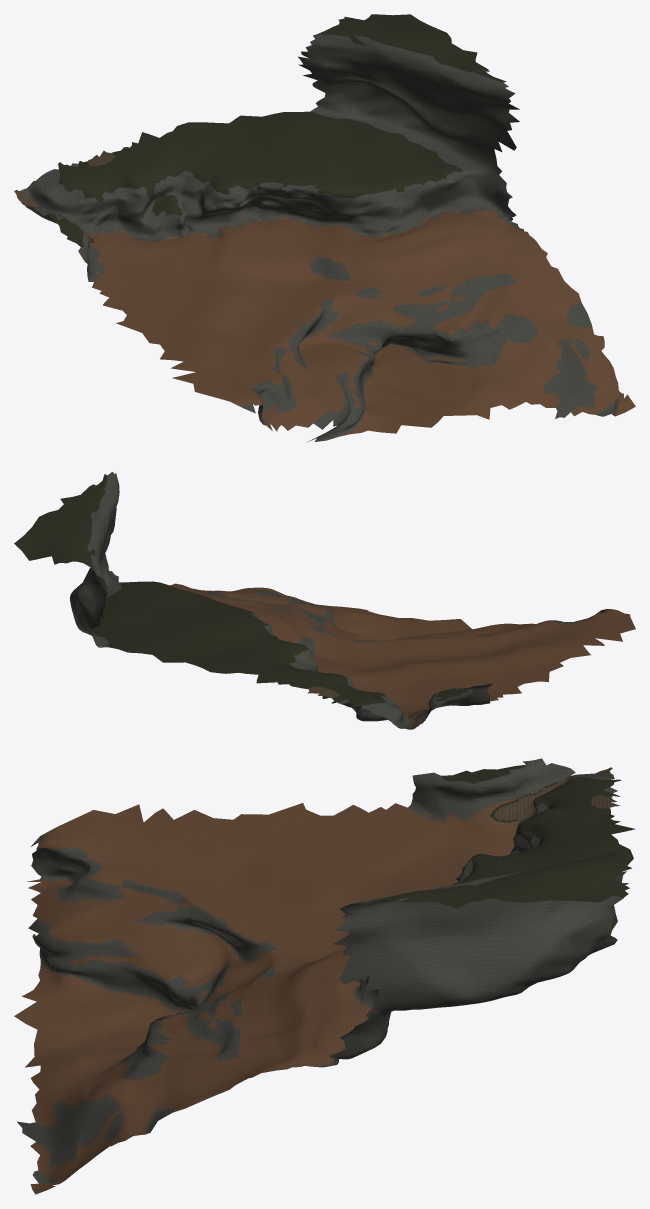
Rendered from G3_Myrtana_Landscape_Cell_132.obj.
3 renders of one model, top to bottom at view 1: azimuth 30°, elevation 25°; view 2: azimuth 150°, elevation 25°; view 3: azimuth 270°, elevation 25°, orthographic. The views are drawn at different scales.
Parts seen in each view (by area): view 1: G3_Myrtana_Landscape_Cell_132_4, G3_Myrtana_Landscape_Cell_132_1, G3_Myrtana_Landscape_Cell_132_0, G3_Myrtana_Landscape_Cell_132_3, G3_Myrtana_Landscape_Cell_132_2; view 2: G3_Myrtana_Landscape_Cell_132_4, G3_Myrtana_Landscape_Cell_132_0, G3_Myrtana_Landscape_Cell_132_1, G3_Myrtana_Landscape_Cell_132_2, G3_Myrtana_Landscape_Cell_132_3, G3_Myrtana_Landscape_Cell_132_5; view 3: G3_Myrtana_Landscape_Cell_132_4, G3_Myrtana_Landscape_Cell_132_1, G3_Myrtana_Landscape_Cell_132_0, G3_Myrtana_Landscape_Cell_132_3, G3_Myrtana_Landscape_Cell_132_2, G3_Myrtana_Landscape_Cell_132_5.
Boxes of the visible parts, x1,y1,x2,y2 form: G3_Myrtana_Landscape_Cell_132_4: (87,209,635,436); G3_Myrtana_Landscape_Cell_132_1: (25,35,615,441); G3_Myrtana_Landscape_Cell_132_0: (20,14,506,247); G3_Myrtana_Landscape_Cell_132_3: (86,203,620,441); G3_Myrtana_Landscape_Cell_132_2: (22,34,508,260); G3_Myrtana_Landscape_Cell_132_4: (170,583,635,717); G3_Myrtana_Landscape_Cell_132_0: (14,474,472,729); G3_Myrtana_Landscape_Cell_132_1: (69,472,563,727); G3_Myrtana_Landscape_Cell_132_2: (87,472,490,728); G3_Myrtana_Landscape_Cell_132_3: (183,585,593,721); G3_Myrtana_Landscape_Cell_132_5: (307,686,425,729); G3_Myrtana_Landscape_Cell_132_4: (14,790,538,1194); G3_Myrtana_Landscape_Cell_132_1: (31,763,628,1157); G3_Myrtana_Landscape_Cell_132_0: (365,764,635,935); G3_Myrtana_Landscape_Cell_132_3: (17,789,536,1183); G3_Myrtana_Landscape_Cell_132_2: (354,758,617,990); G3_Myrtana_Landscape_Cell_132_5: (494,767,620,820).
Size of the model in its own units: 169 by 88.57 by 167.
